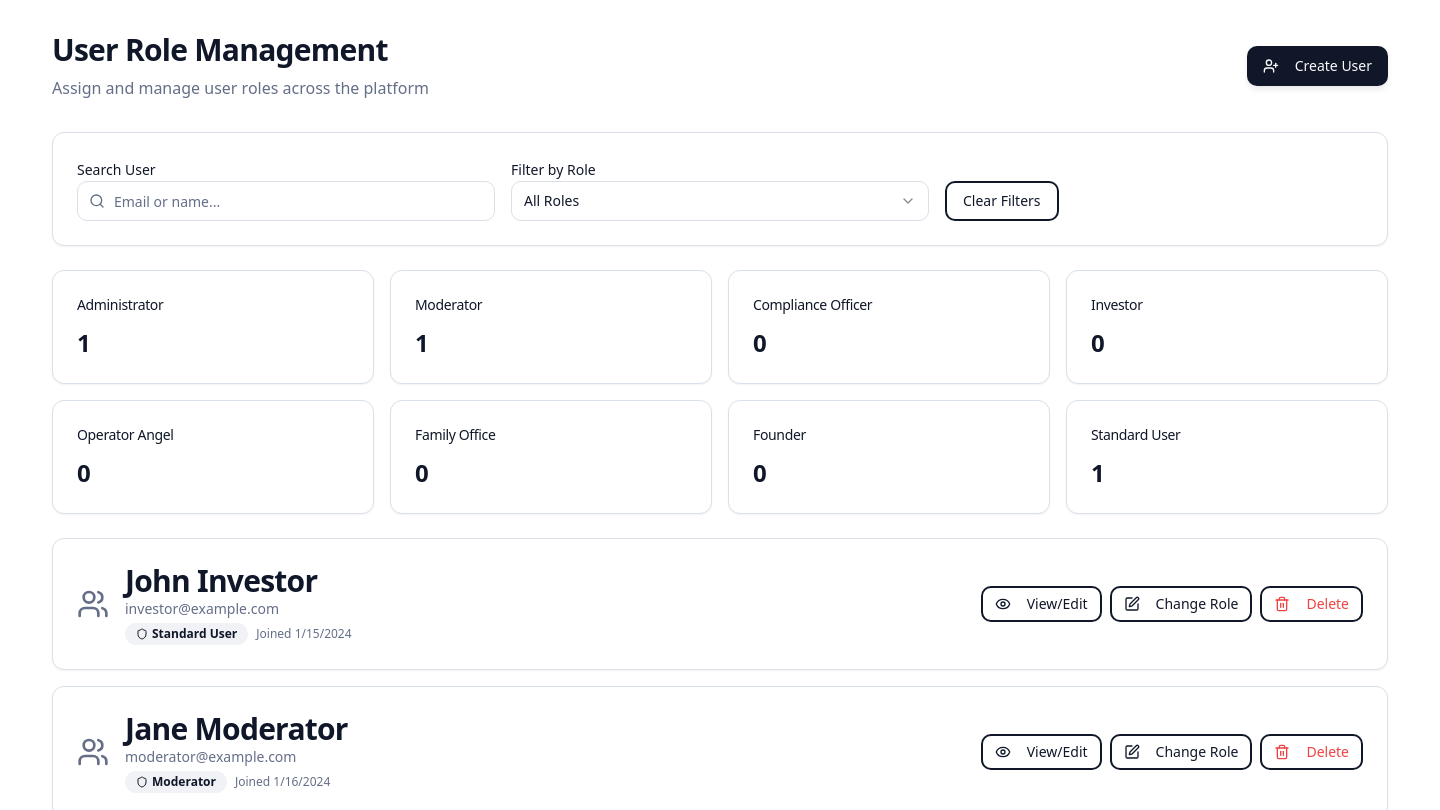
Test: US-ADMIN-CRUD-001: User Delete › should show confirmation dialog when clicking delete
Expected: the heading "John Investor" is shown, [125, 560, 317, 601]
Click the button "Delete" in the row of "John Investor" at {"x": 1312, "y": 604}, box [1260, 586, 1363, 622]
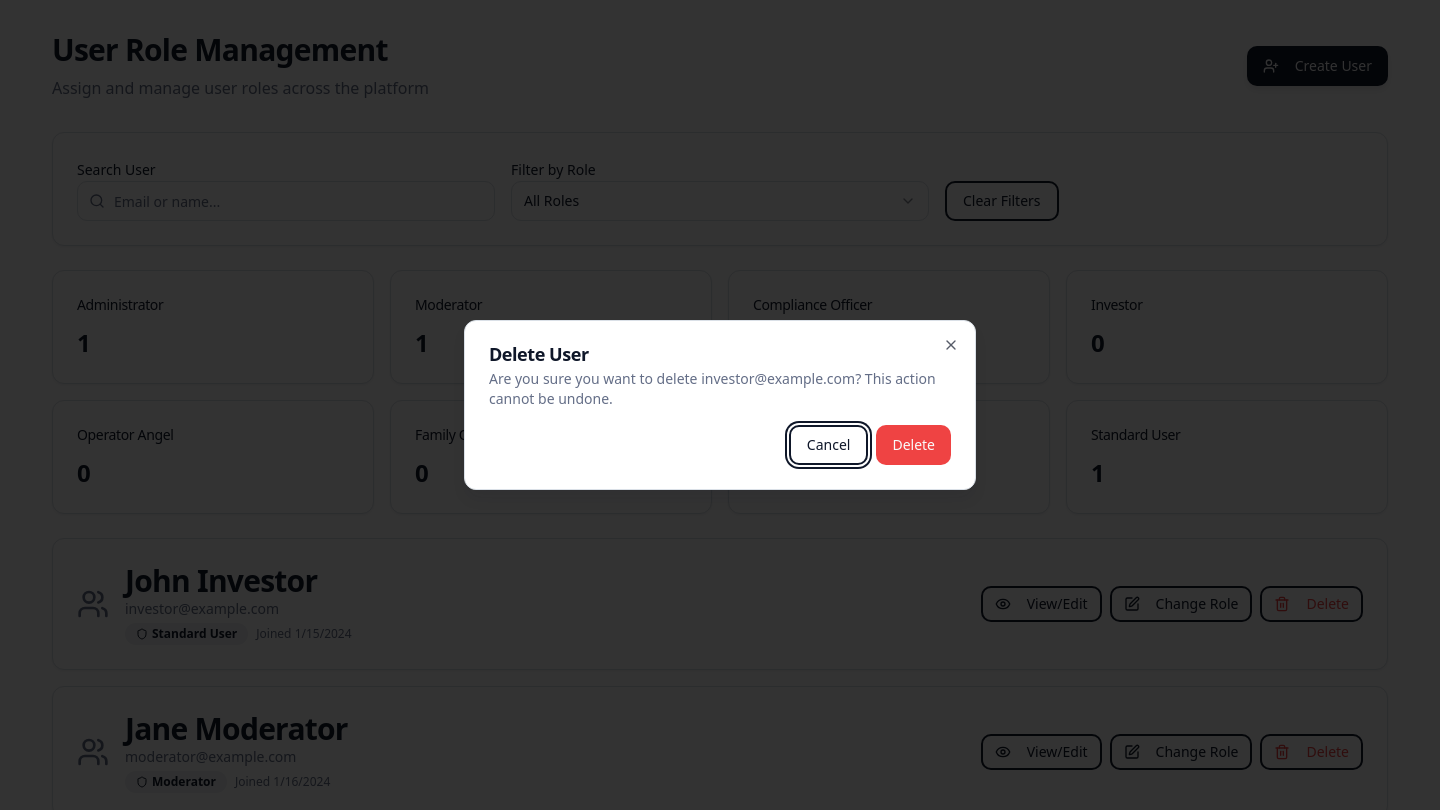
Now the text "Are you sure" is shown, box [489, 369, 701, 388]
Now the text "cannot be undone" is shown, box [489, 369, 936, 408]
